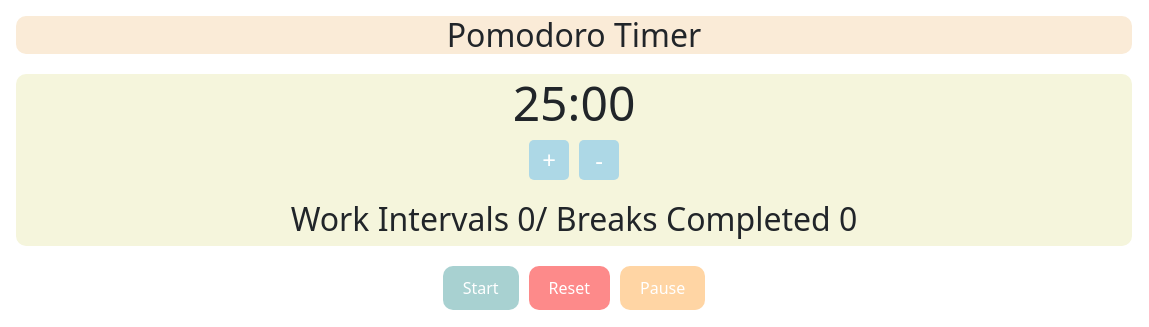
Test: Pomodoro Timer › increase button increases the minutes
What coordinates should you click on to do the following:
click the button "+"
I would click on:
 (549, 160)
Its box is [529,140,569,180].
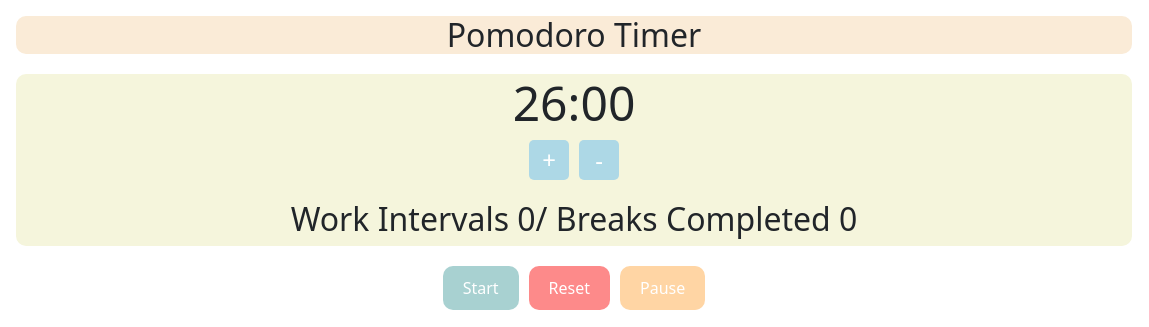
Expected: the heading "26:00" is shown, [513,70,635,135]
